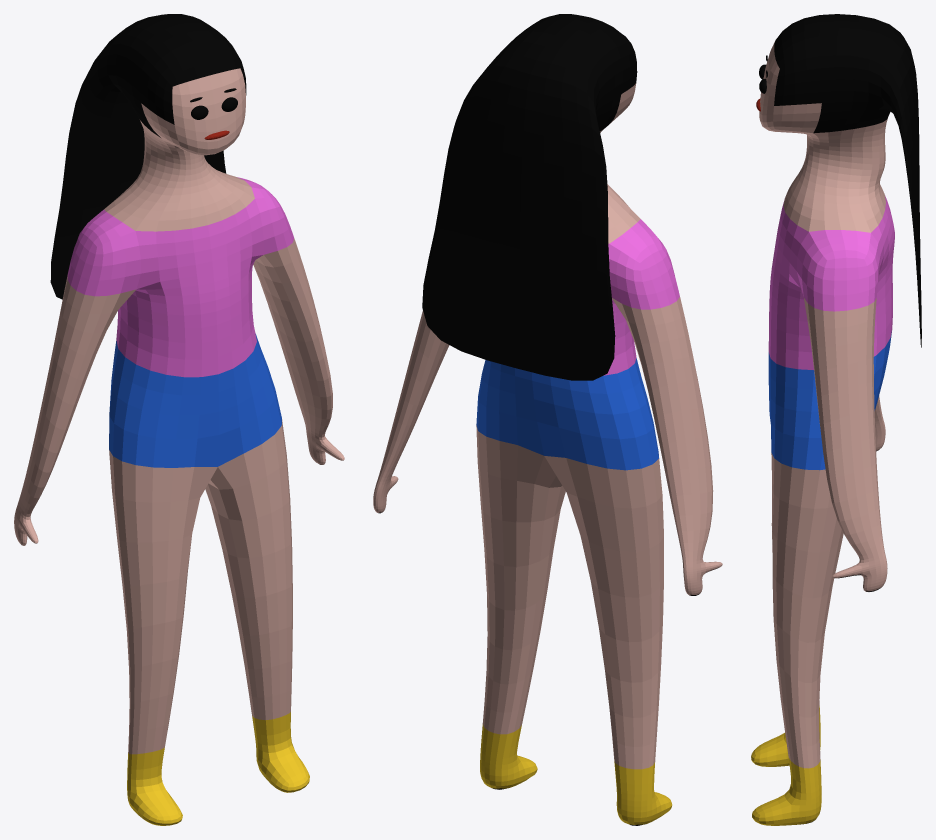
File: avatarFemale.fbx
3 renders of one model, left to right at view 1: azimuth 30°, elevation 25°; view 2: azimuth 150°, elevation 25°; view 3: azimuth 270°, elevation 25°, orthographic. The views are drawn at different scales.
Parts seen in each view (by area): view 1: Cube.001; view 2: Cube.001; view 3: Cube.001.
Boxes of the visible parts, bbox=[...] form: Cube.001: bbox=[14, 14, 344, 825]; Cube.001: bbox=[373, 14, 722, 825]; Cube.001: bbox=[751, 14, 921, 825].
Bounding box in the file's own units: 295 × 687 × 139.
